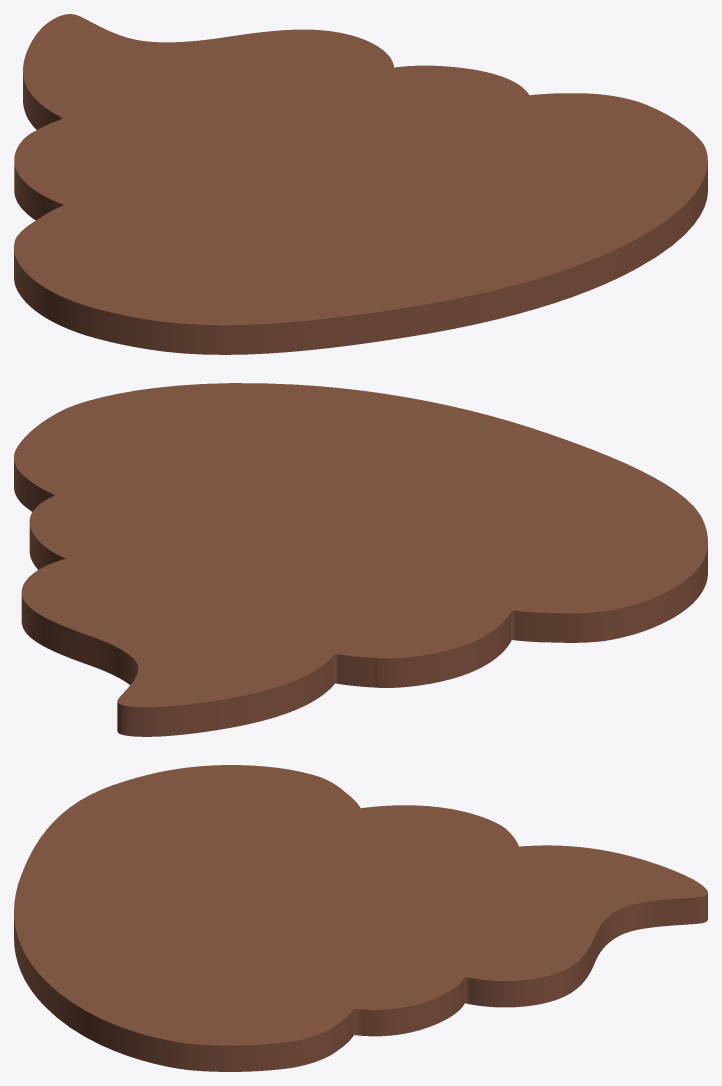
File: emoji_u1f4a9.glb
3 renders of one model, top to bottom at view 1: azimuth 30°, elevation 25°; view 2: azimuth 150°, elevation 25°; view 3: azimuth 270°, elevation 25°, orthographic. The views are drawn at different scales.
Parts seen in each view (by area): view 1: emoji_u1f4a9; view 2: emoji_u1f4a9; view 3: emoji_u1f4a9.
Part boxes in pixels (bbox=[...]): emoji_u1f4a9: bbox=[14, 14, 707, 354]; emoji_u1f4a9: bbox=[14, 383, 707, 736]; emoji_u1f4a9: bbox=[14, 765, 707, 1071].
Bounding box in the file's own units: 0.0319 × 0.0014 × 0.0333.
